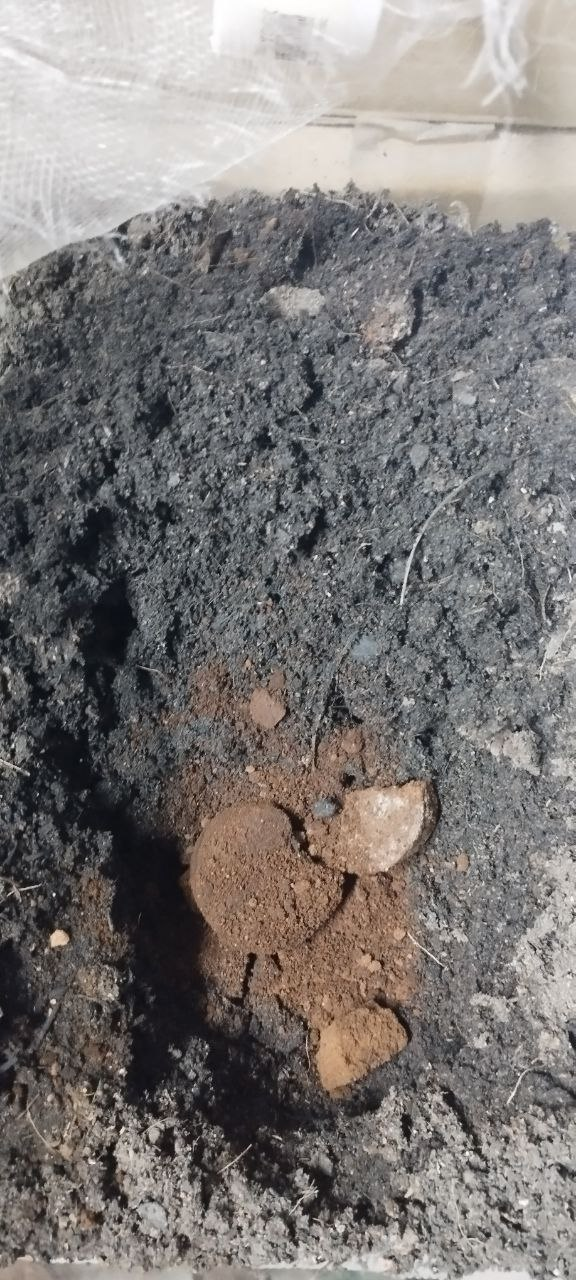coffee ground: (155, 713, 449, 1120)
